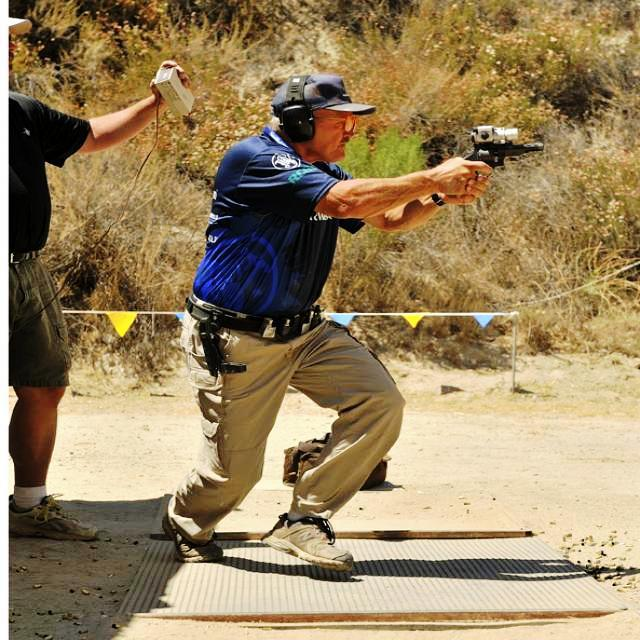Gun: (455, 120, 555, 193)
